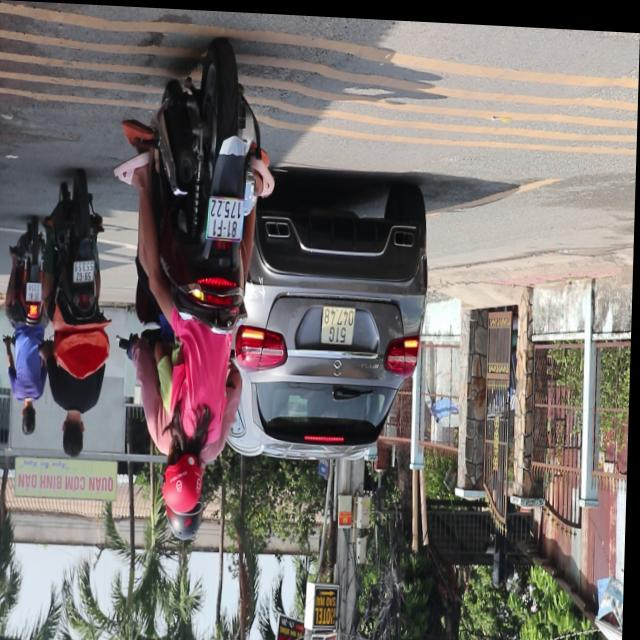helmet: (165, 442, 210, 515), (170, 499, 210, 541)
licenseplate: (119, 40, 279, 541), (46, 171, 119, 462), (4, 220, 57, 441)
motorcyclist: (63, 408, 91, 461), (23, 402, 42, 439)
nohelmet: (207, 196, 245, 239), (75, 259, 96, 284), (28, 282, 44, 302)
